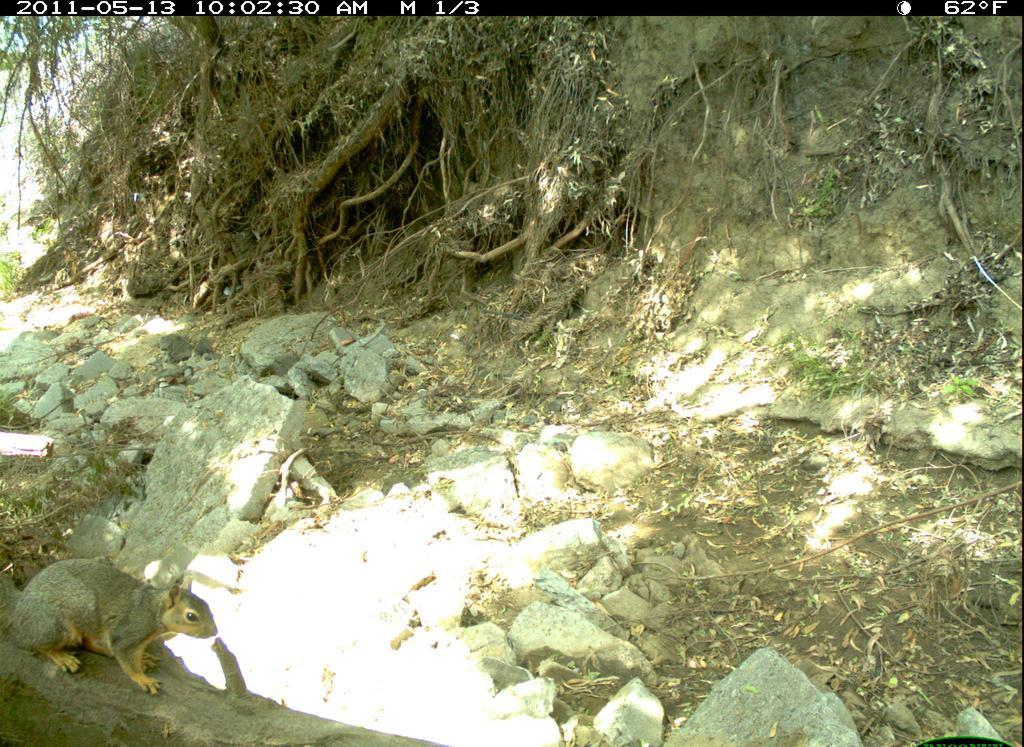squirrel: (1, 551, 227, 705)
